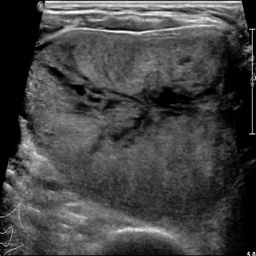mass: (28, 30, 243, 218)
